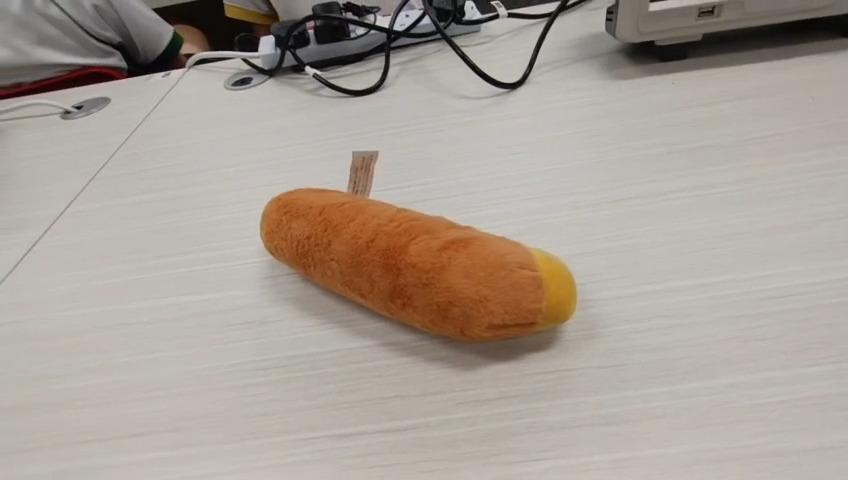hotdog: (258, 185, 578, 343)
